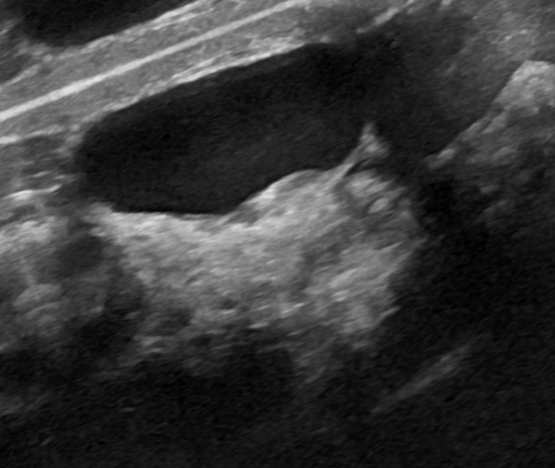Benign: (88, 52, 355, 219)
